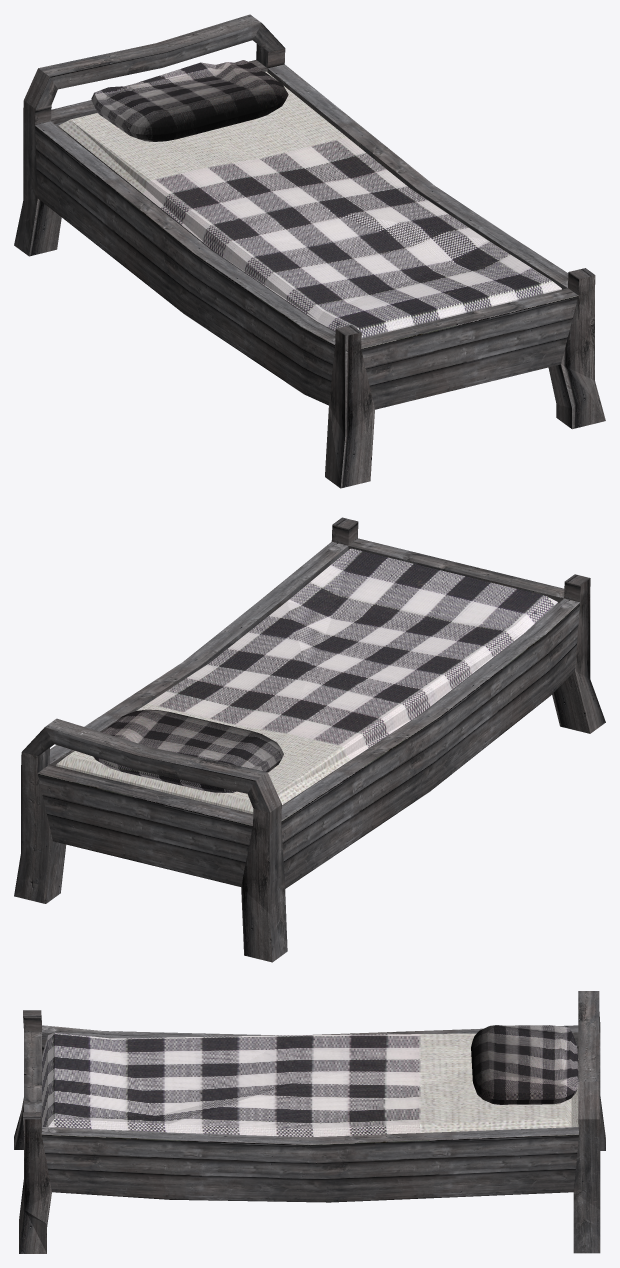
Rendered from tavern_bed.dae.
The picture shows the model from 3 angles, top to bottom: view 1: azimuth 30°, elevation 25°; view 2: azimuth 150°, elevation 25°; view 3: azimuth 270°, elevation 25°; orthographic projection. The views are drawn at different scales.
Visible parts, largest first — view 1: Default_Layer; view 2: Default_Layer; view 3: Default_Layer.
Boxes of the visible parts, box(x1,y1,x2,y2) form: Default_Layer: box(14, 14, 605, 488); Default_Layer: box(14, 517, 605, 962); Default_Layer: box(14, 991, 605, 1253).
Size of the model in its own units: 0.8727 by 0.5503 by 1.86.
